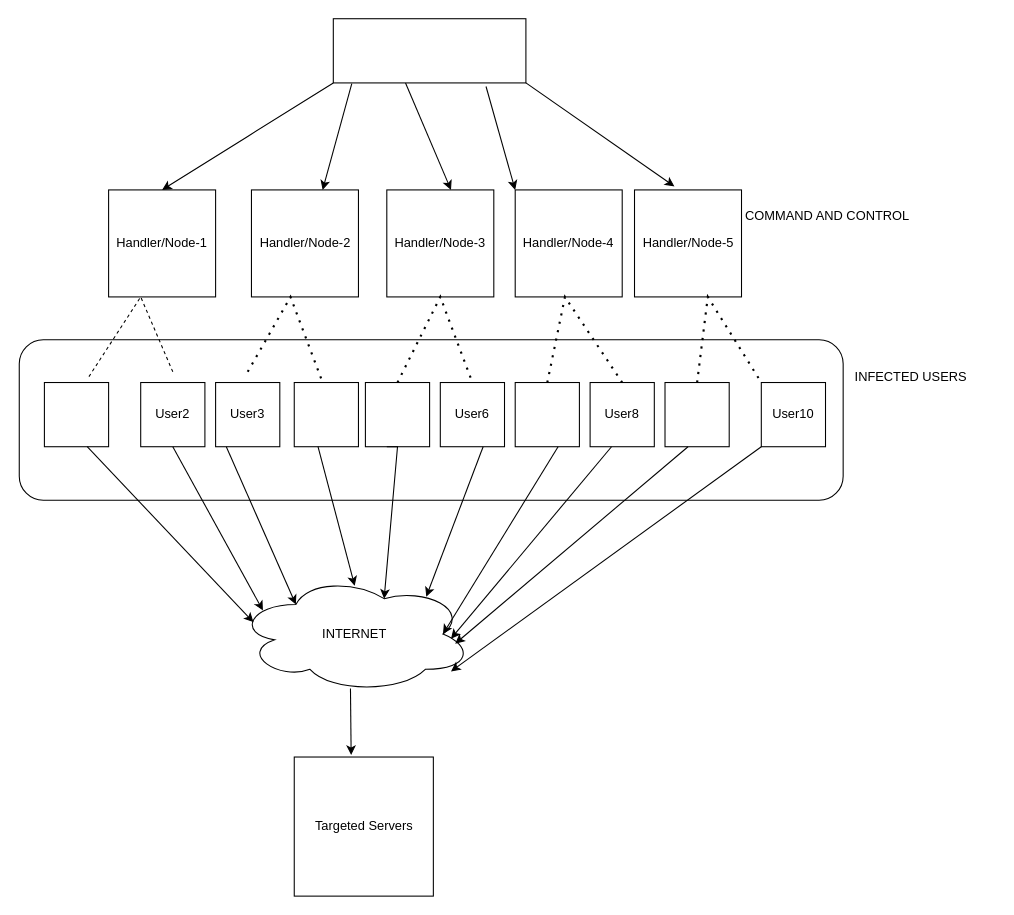
The diagram is 1014 pixels wide and 915 high, and some of its shapes have lost their labels. The shapes that lost their labels are listed below. From the top down, each one's box as (x1, y1, x2, y2) in pixels, then its label:
(332, 18, 526, 83): Attacker Machine (Running Client Programme)
(43, 381, 109, 447): User 1
(293, 381, 358, 447): User4
(364, 381, 430, 447): User5
(514, 381, 579, 447): User7
(664, 381, 729, 447): User 9
